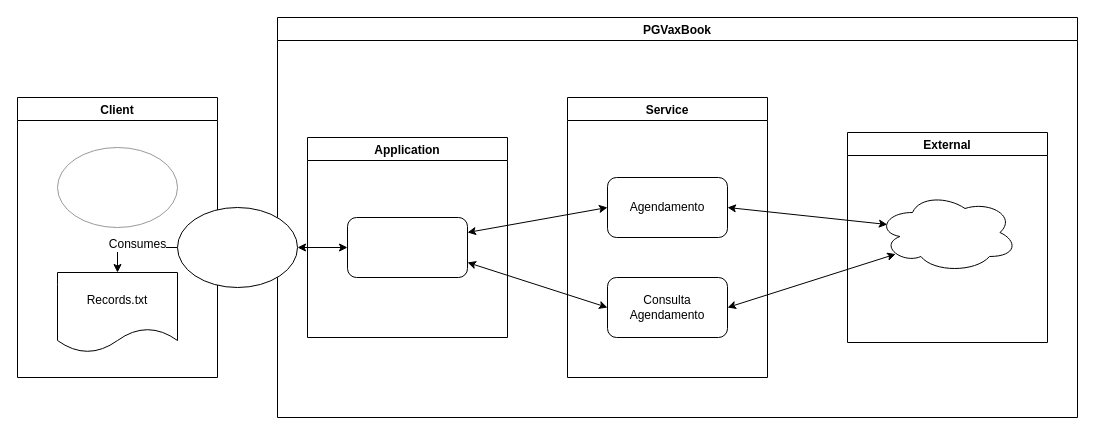
Image size: 1095x435. Some labels were removed from this diagram. Each missing label, with the centre of its shape:
"ApplicationService" belongs at [407,247].
"Console app" belongs at [237,247].
"Ponta Grossa Town hall API" belongs at [947,232].
"Web app" belongs at [117,187].
